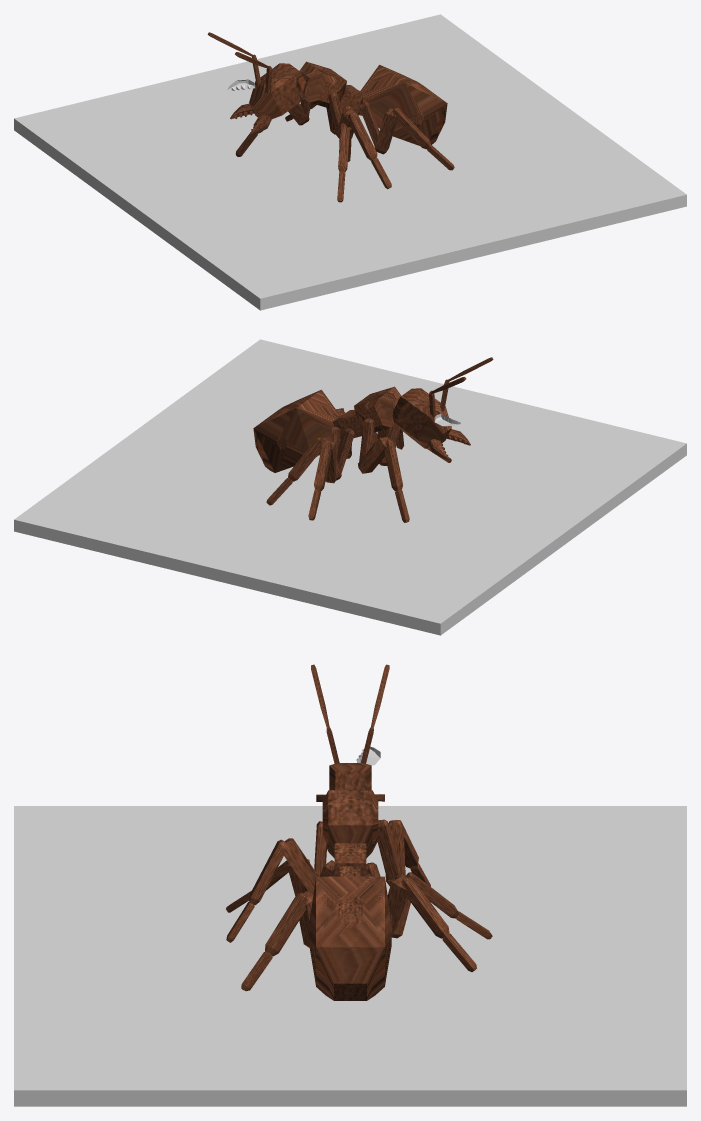
The model's file is AntTextured.glb.
The picture shows the model from 3 angles, top to bottom: view 1: azimuth 30°, elevation 25°; view 2: azimuth 150°, elevation 25°; view 3: azimuth 270°, elevation 25°; orthographic projection. The views are drawn at different scales.
Visible parts, largest first — view 1: Cube.014, Cube.015, Cube, Cube.001, Cube.009, Cube.004, Cube.008, Cube.012; view 2: Cube.014, Cube.015, Cube, Cube.012, Cube.001, Cube.011, Cube.010; view 3: Cube.014, Cube.015, Cube.001, Cube.004, Cube.011, Cube.009, Cube.012, Cube.010, Cube, Cube.008.
Part boxes in pixels (<box>): Cube.014: <box>14,14,686,310</box>; Cube.015: <box>360,64,447,145</box>; Cube: <box>249,63,308,119</box>; Cube.001: <box>299,61,362,115</box>; Cube.009: <box>359,101,454,170</box>; Cube.004: <box>328,92,391,189</box>; Cube.008: <box>337,106,352,202</box>; Cube.012: <box>235,99,310,156</box>; Cube.014: <box>14,339,686,635</box>; Cube.015: <box>253,389,340,472</box>; Cube: <box>392,388,451,444</box>; Cube.012: <box>358,418,409,522</box>; Cube.001: <box>338,386,401,439</box>; Cube.011: <box>266,428,354,505</box>; Cube.010: <box>308,427,340,520</box>; Cube.014: <box>14,806,686,1106</box>; Cube.015: <box>309,876,391,1000</box>; Cube.001: <box>322,790,378,876</box>; Cube.004: <box>226,821,327,942</box>; Cube.011: <box>366,862,476,971</box>; Cube.009: <box>241,875,334,991</box>; Cube.012: <box>377,819,430,886</box>; Cube.010: <box>362,872,492,939</box>; Cube: <box>329,763,371,790</box>; Cube.008: <box>226,859,334,912</box>.
Size of the model in its own units: 6.3 by 2.22 by 6.3.
Materials: 14 (14 with a texture image).
